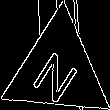N_NE: (30, 38, 86, 102)
